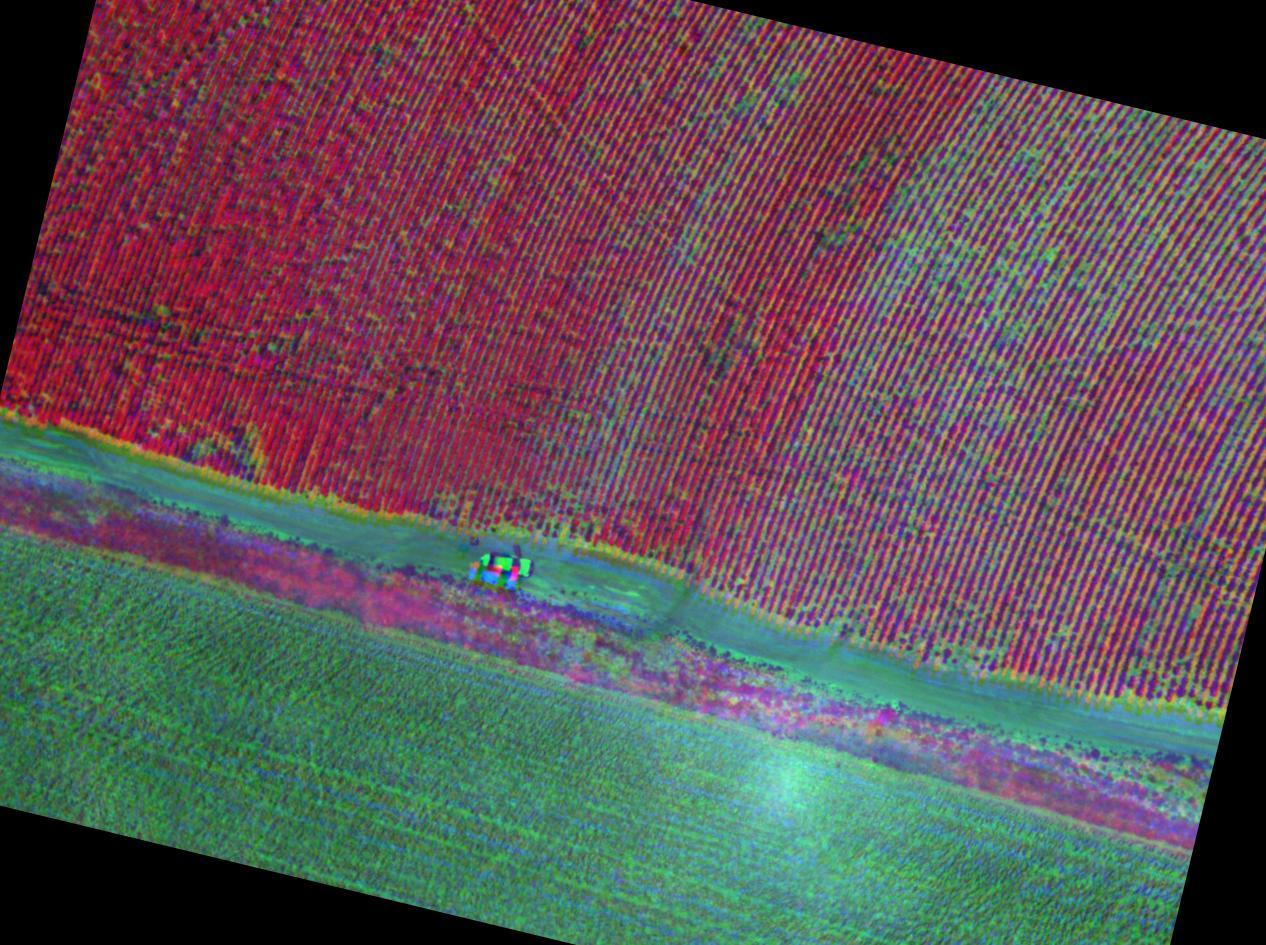dc: (866, 583, 998, 672), (1023, 248, 1111, 350), (886, 203, 974, 294), (1133, 163, 1215, 254), (1003, 140, 1085, 227)
